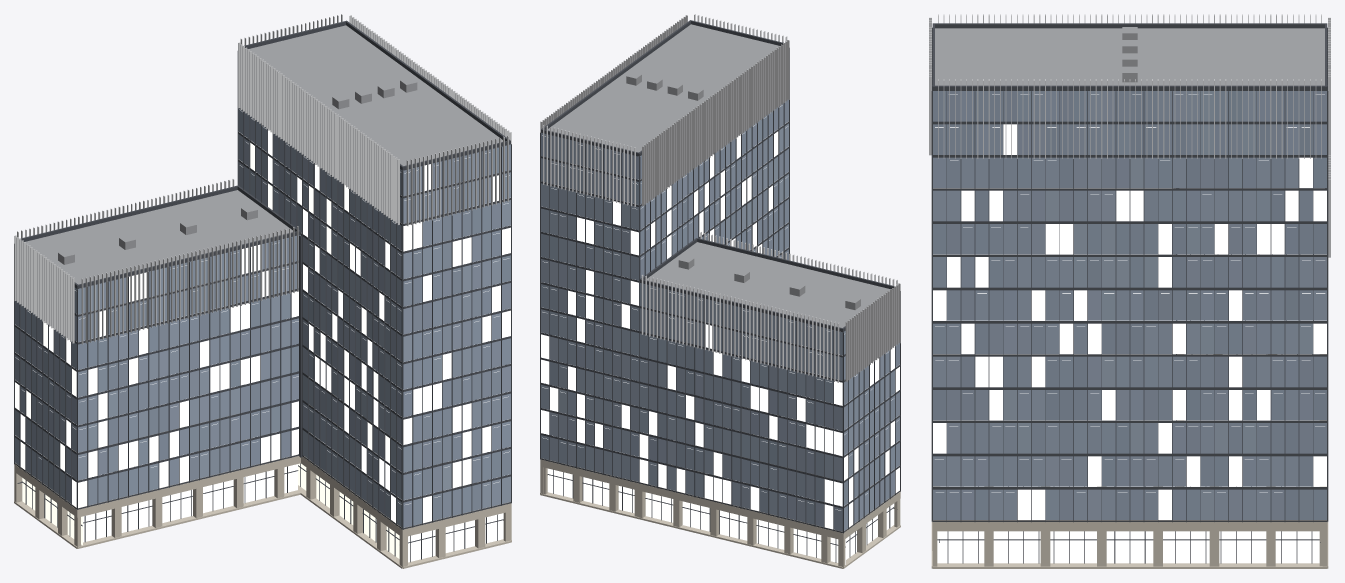
File: capital.glb
3 views of the same model, side by side, from view 1: azimuth 30°, elevation 25°; view 2: azimuth 150°, elevation 25°; view 3: azimuth 270°, elevation 25° (orthographic). The views are drawn at different scales.
Visible parts, largest first — view 1: glass, frame, fin, roof, stone, glassLitA, glassLitB, glassGround, lightLine; view 2: glass, frame, fin, roof, stone, glassLitB, glassGround, glassLitA, lightLine; view 3: glass, frame, roof, glassGround, glassLitB, fin, stone, glassLitA, lightLine.
Part boxes in pixels (x1,y1,x2,y2): glass: (15, 108, 510, 527); frame: (14, 20, 511, 562); fin: (14, 14, 511, 344); roof: (24, 25, 502, 284); stone: (14, 388, 511, 568); glassLitA: (15, 129, 510, 522); glassLitB: (20, 143, 510, 523); glassGround: (22, 436, 503, 562); lightLine: (15, 109, 509, 504); glass: (541, 99, 899, 531); frame: (540, 20, 900, 562); fin: (540, 14, 900, 382); roof: (548, 24, 891, 327); stone: (540, 389, 900, 568); glassLitB: (541, 134, 899, 527); glassGround: (547, 390, 894, 564); glassLitA: (541, 131, 899, 529); lightLine: (542, 105, 898, 510); glass: (933, 91, 1326, 519); frame: (931, 23, 1328, 563); roof: (935, 27, 1324, 188); glassGround: (937, 531, 1319, 563); glassLitB: (933, 124, 1326, 519); fin: (929, 14, 1330, 257); stone: (931, 354, 1328, 568); glassLitA: (961, 190, 1326, 519); lightLine: (935, 94, 1325, 492).
Size of the model in its own units: 49.8 by 57.5 by 42.8.
